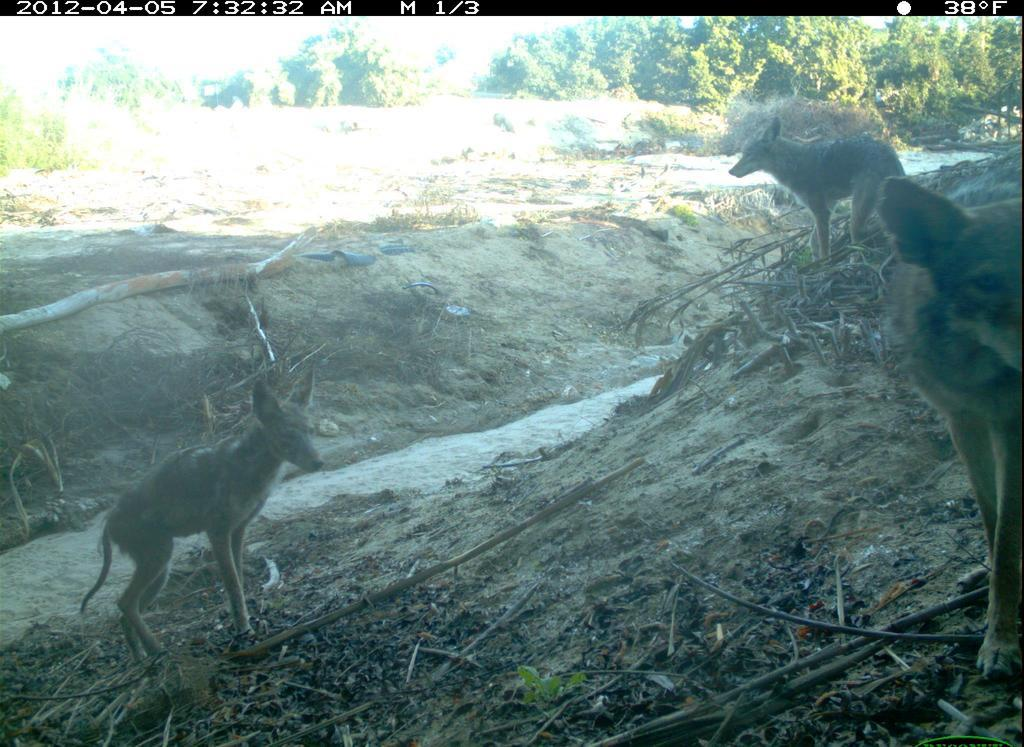coyote: (76, 368, 328, 666), (876, 182, 1024, 684), (722, 114, 911, 263)
